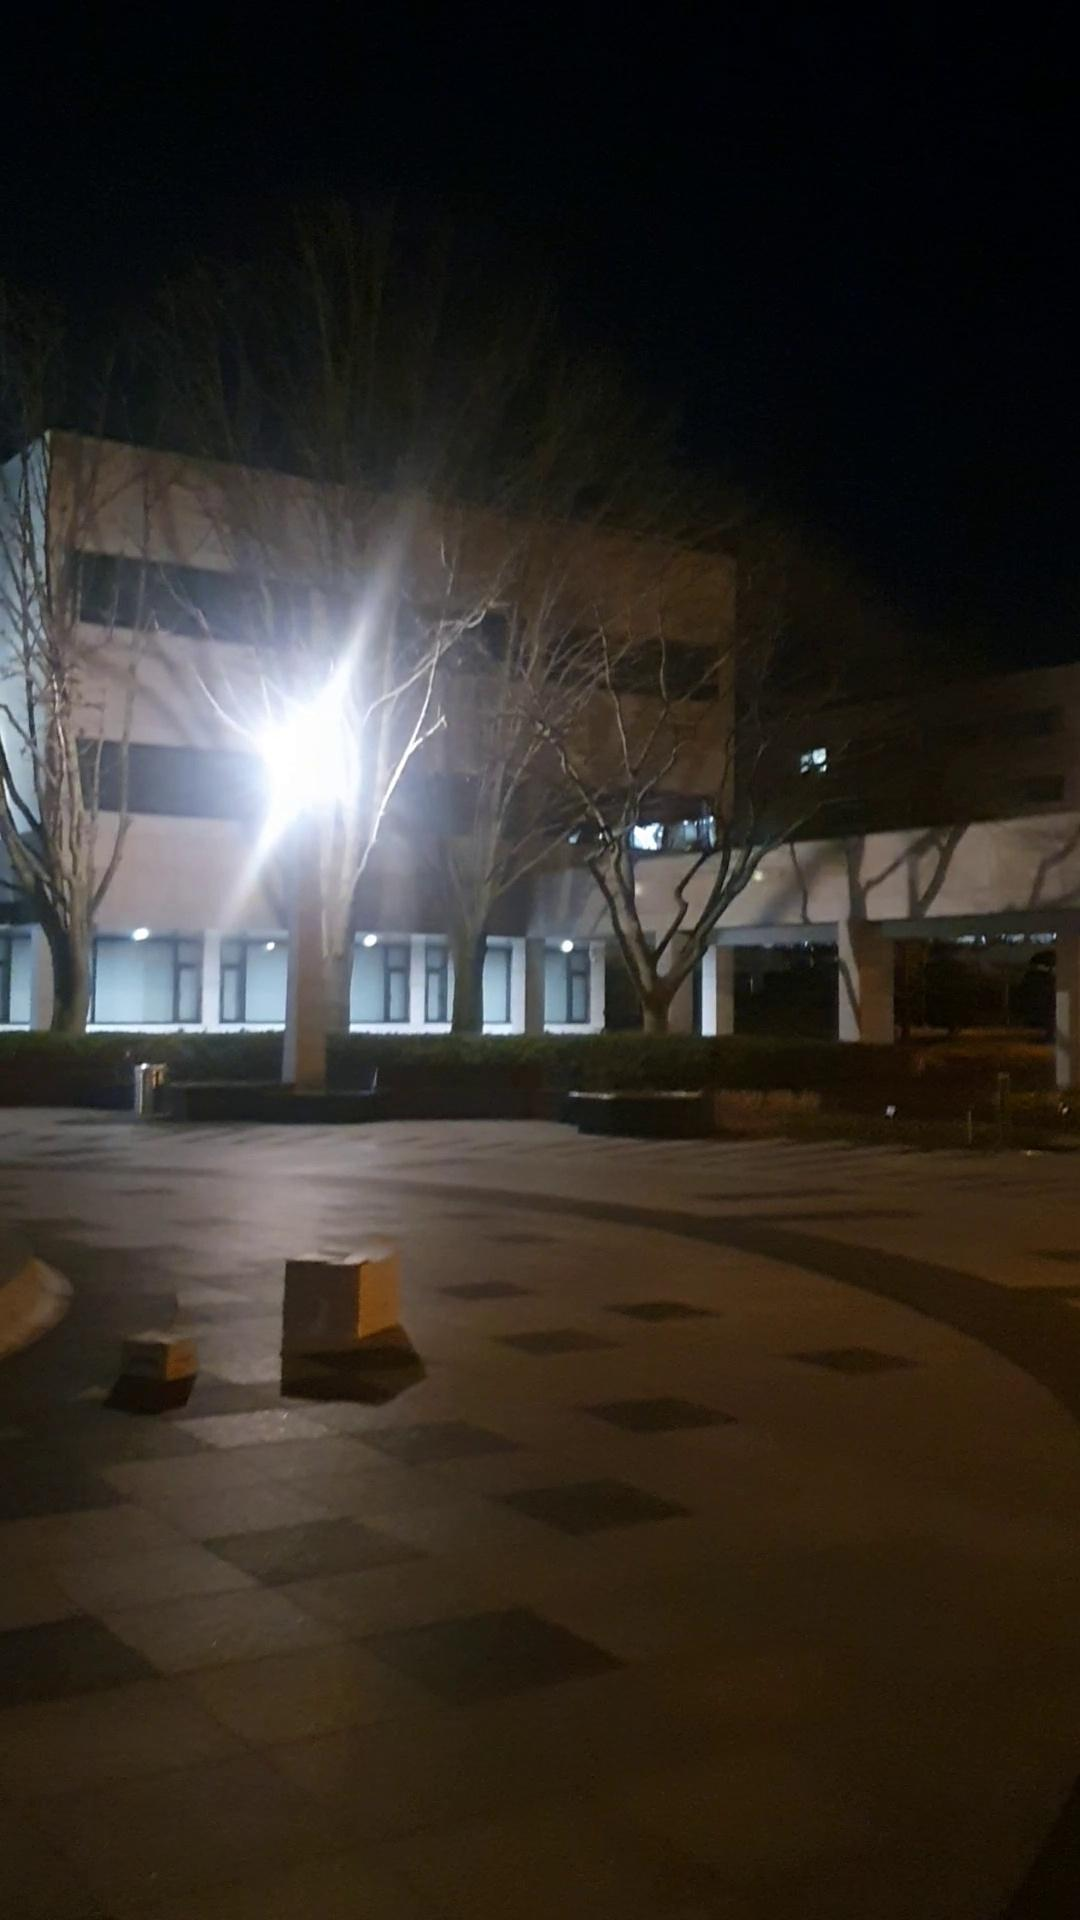Box: (281, 1230, 413, 1356), (127, 1320, 198, 1396)
